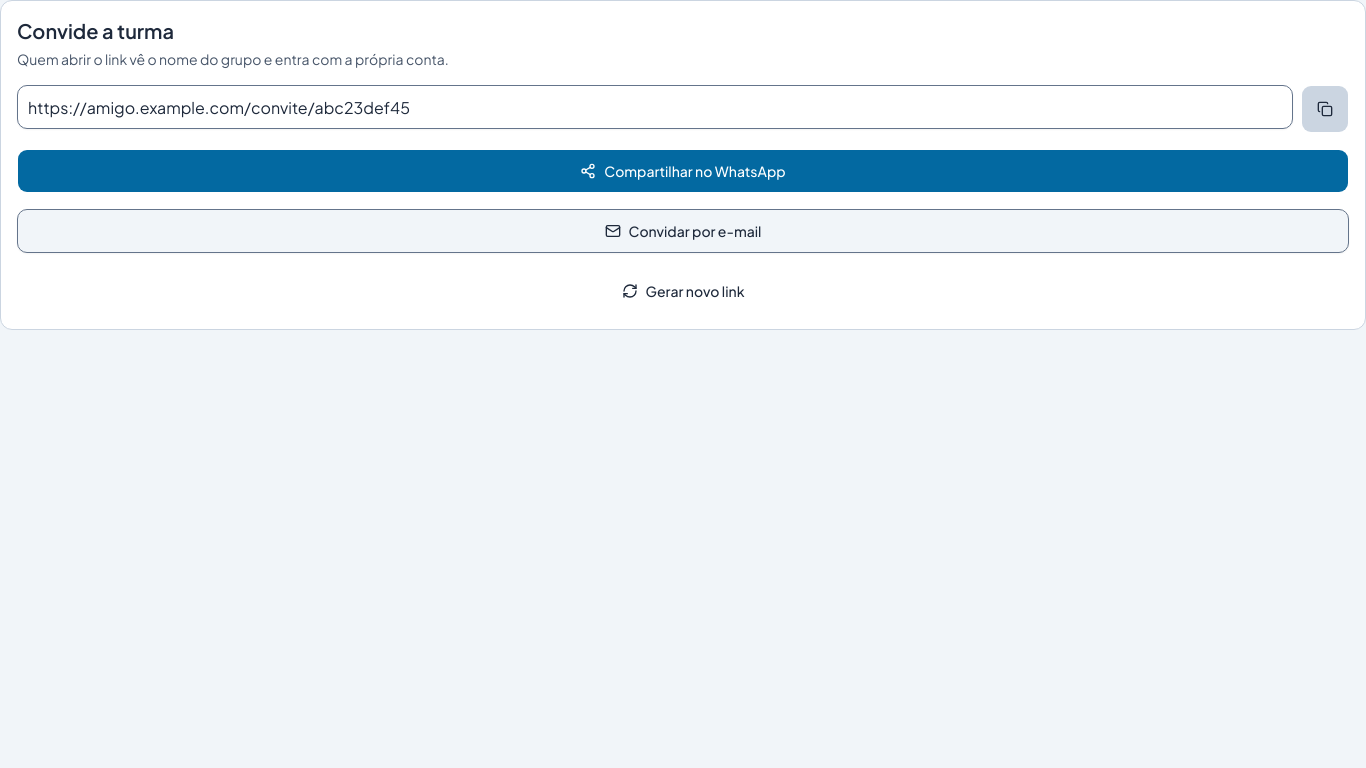
Scenario: InviteBlock › Gerar novo link confirma com os textos da spec e foco em Manter link
The width and height of the screenshot is (1366, 768).
Later steps or results of the test are not shown.
What coordinates should you click on to do the following:
click the button "Gerar novo link"
I would click on:
 (683, 291)
Its box is [17,269,1349,313].
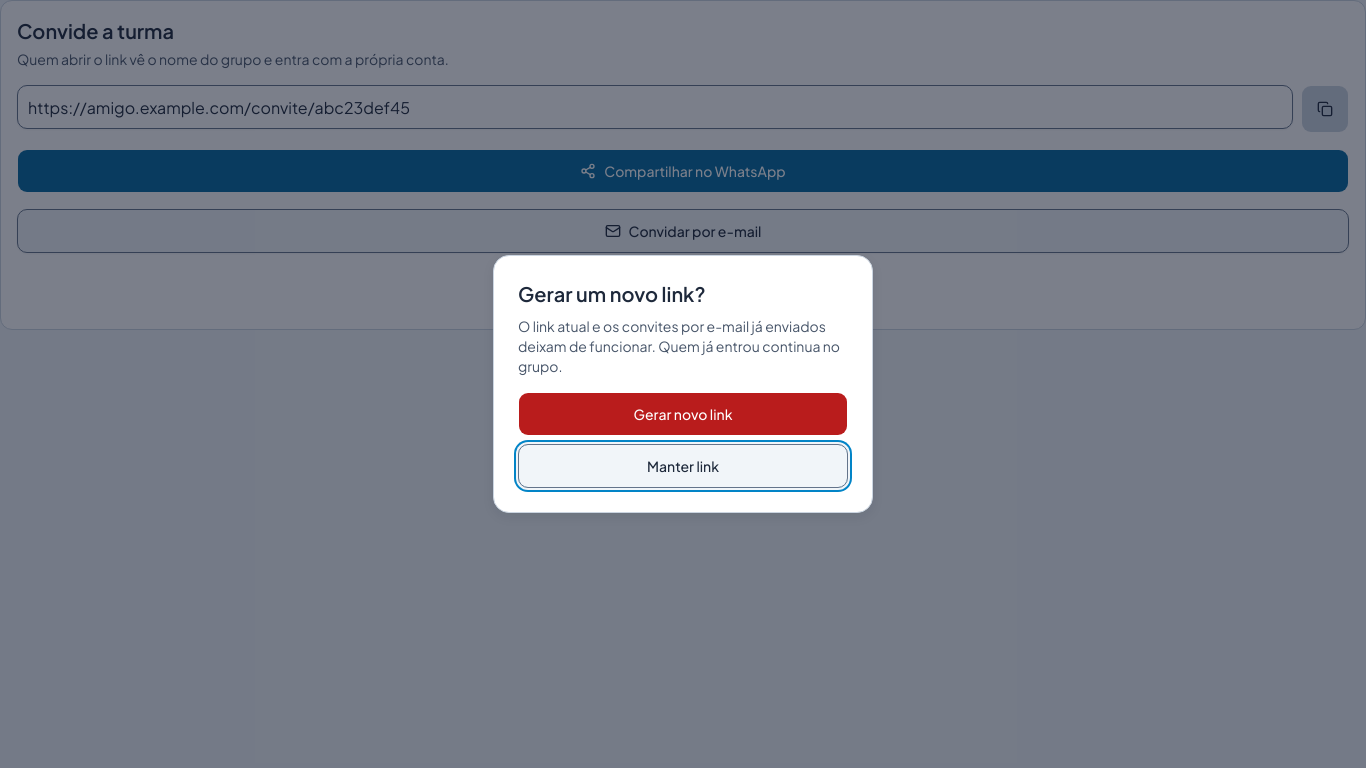
Check: the buttons read "Gerar novo link", "Manter link", in this order, box [518,392,848,436]; [518,444,848,488]
